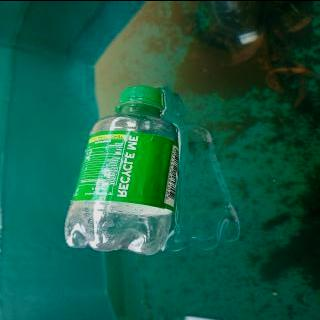bottle: (64, 82, 182, 255)
